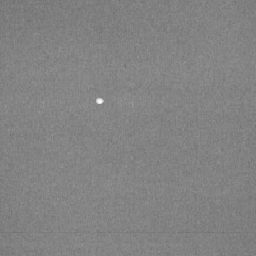Target: (94, 97, 105, 106)
